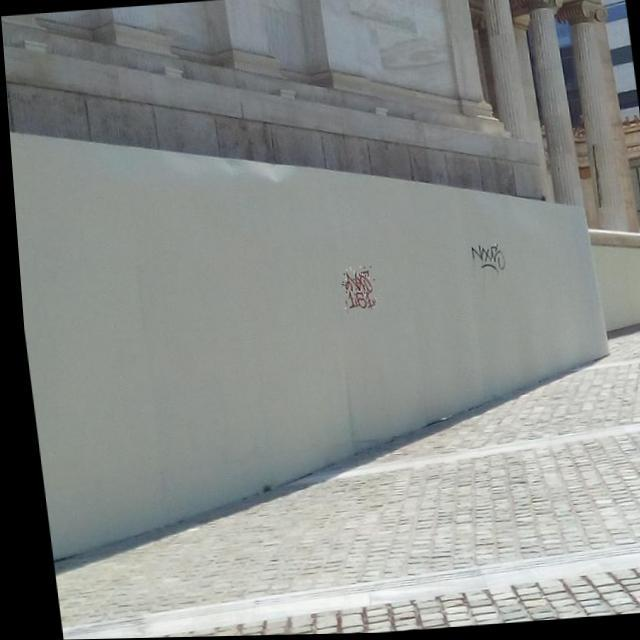-: (335, 266, 374, 312), (464, 244, 502, 272)
